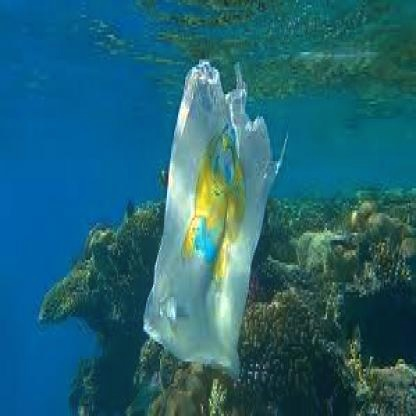pbag: (140, 55, 283, 382)
